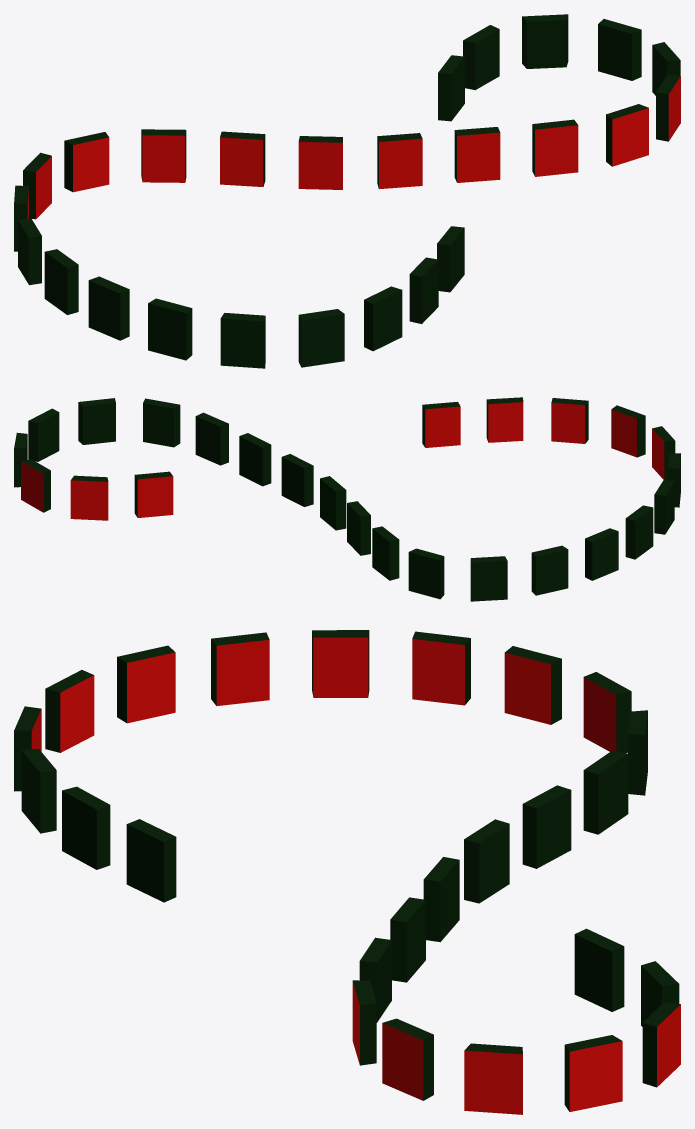
The model's file is place02.gltf.
3 views of the same model, one above another, from view 1: azimuth 30°, elevation 25°; view 2: azimuth 150°, elevation 25°; view 3: azimuth 270°, elevation 25° (orthographic). The views are drawn at different scales.
Visible parts, largest first — view 1: Cube; view 2: Cube; view 3: Cube.
Part boxes in pixels (<box>): Cube: <box>14,14,680,368</box>; Cube: <box>14,397,680,601</box>; Cube: <box>14,630,680,1114</box>.
Bounding box in the file's own units: 567 × 37.65 × 377.
